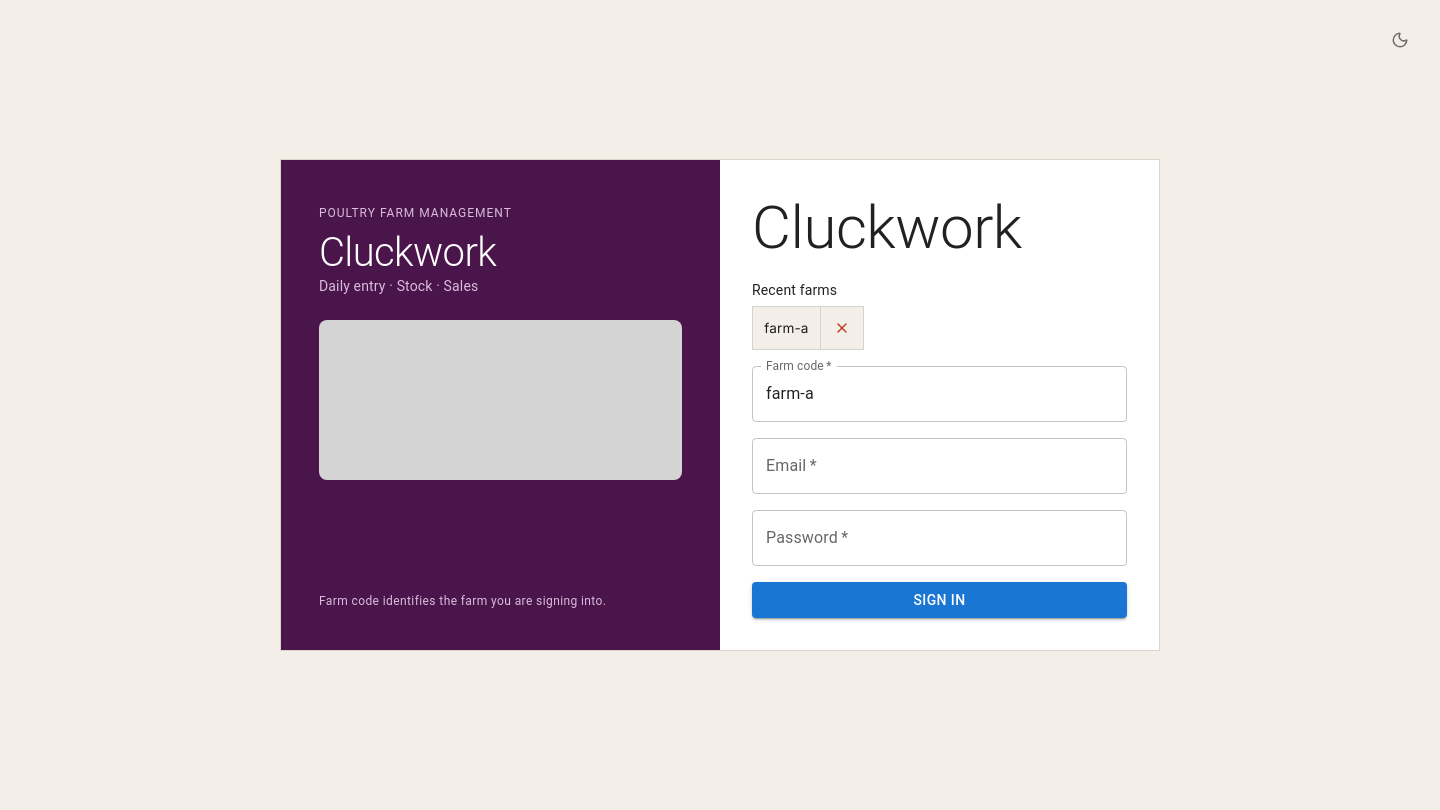
Test: Login — cached pre-auth banner (#833) › forget: the banner disappears once its farm is forgotten
expect the button "Sign in" is shown: met, box [752,582,1127,618]
Click the button named "Forget farm-a".
click(842, 328)  # box [820,306,864,350]
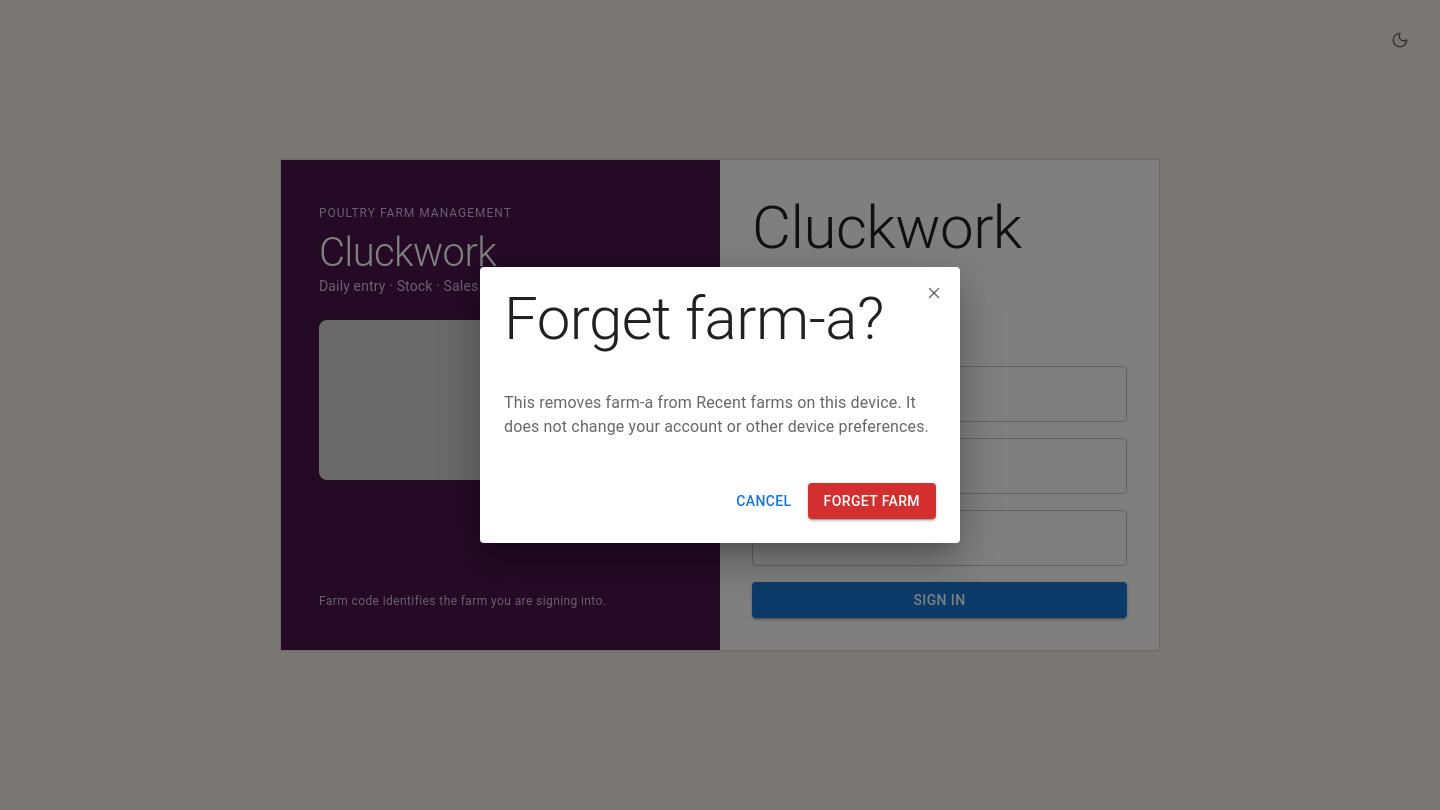
Click the button "Forget farm".
click(872, 501)  # box [808,483,936,519]
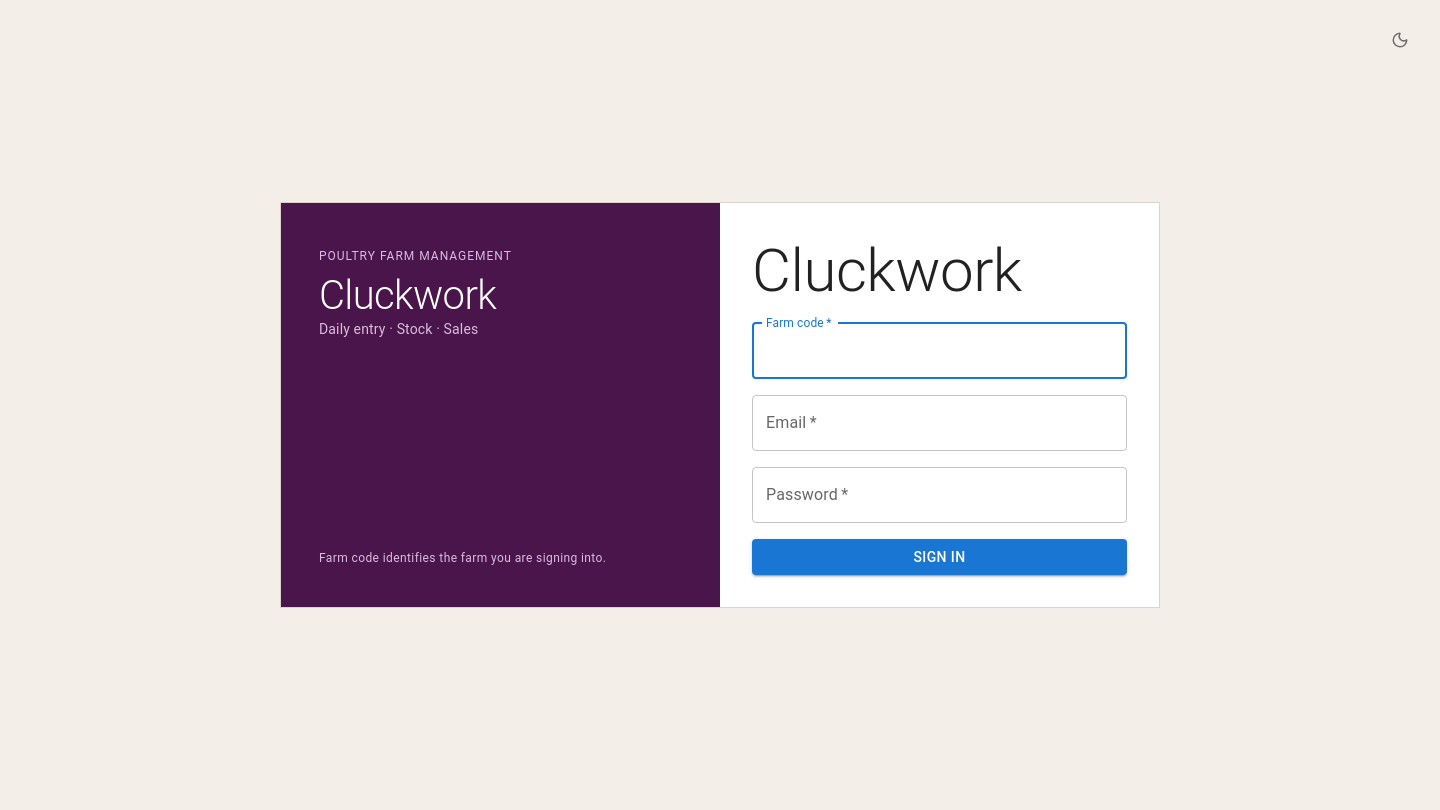
expect the dialog is gone: met
